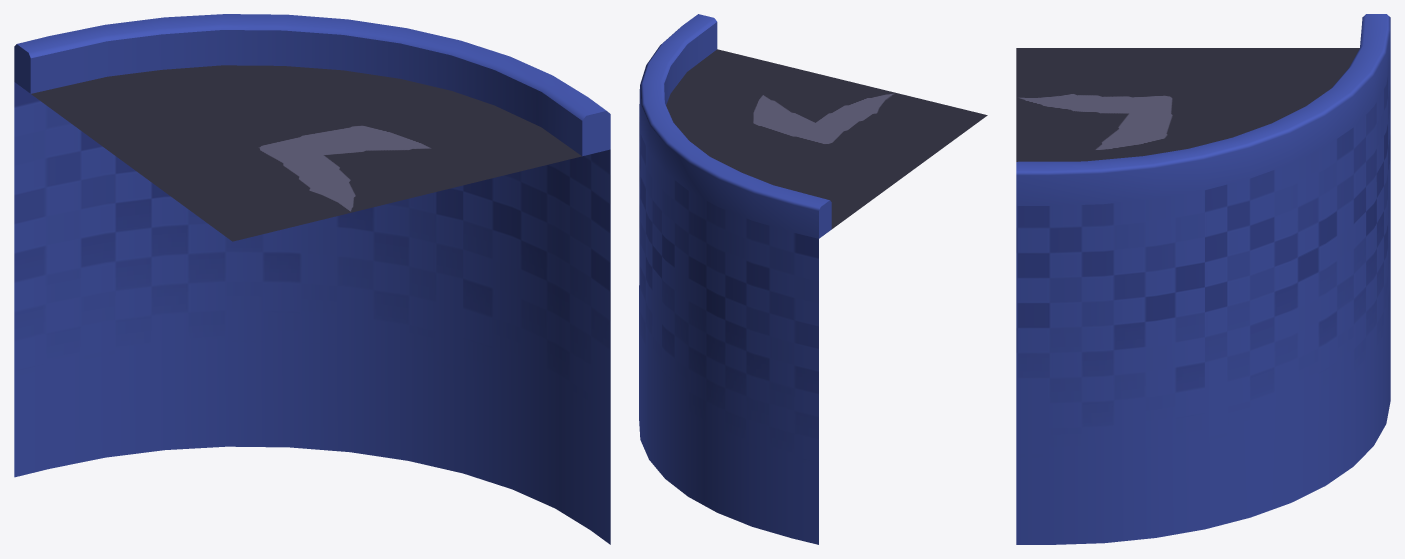
Rendered from Cerved_new.fbx.
3 views of the same model, side by side, from view 1: azimuth 30°, elevation 25°; view 2: azimuth 150°, elevation 25°; view 3: azimuth 270°, elevation 25° (orthographic). The views are drawn at different scales.
Visible parts, largest first — view 1: Curved; view 2: Curved; view 3: Curved.
Boxes of the visible parts, x1,y1,x2,y2 form: Curved: (14,14,610,544); Curved: (639,14,987,544); Curved: (1016,14,1390,544).
Bounding box in the file's own units: 200 × 200 × 220.
